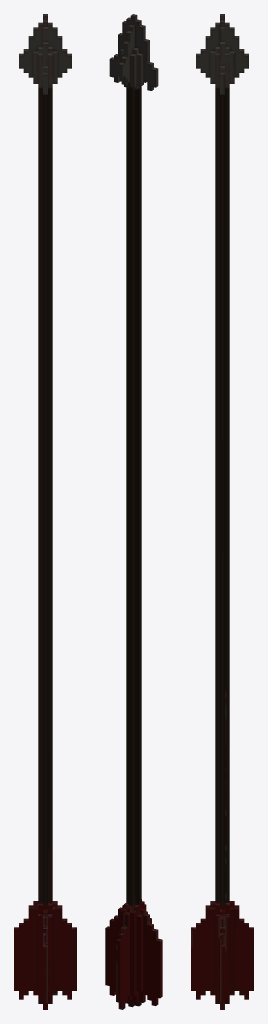
Rendered from Arrow-Broadhead-Iron.obj.
The picture shows the model from 3 angles, left to right: view 1: azimuth 90°, elevation 25°; view 2: azimuth 150°, elevation 25°; view 3: azimuth 270°, elevation 25°; orthographic projection.
Parts seen in each view (by area): view 1: Arrow-Broadhead-Iron; view 2: Arrow-Broadhead-Iron; view 3: Arrow-Broadhead-Iron.
Boxes of the visible parts, left/top/right/bottom form: Arrow-Broadhead-Iron: left=14, top=14, right=76, bottom=1009; Arrow-Broadhead-Iron: left=105, top=14, right=162, bottom=1009; Arrow-Broadhead-Iron: left=191, top=14, right=253, bottom=1009.
Size of the model in its own units: 0.13 by 2.25 by 0.13.
